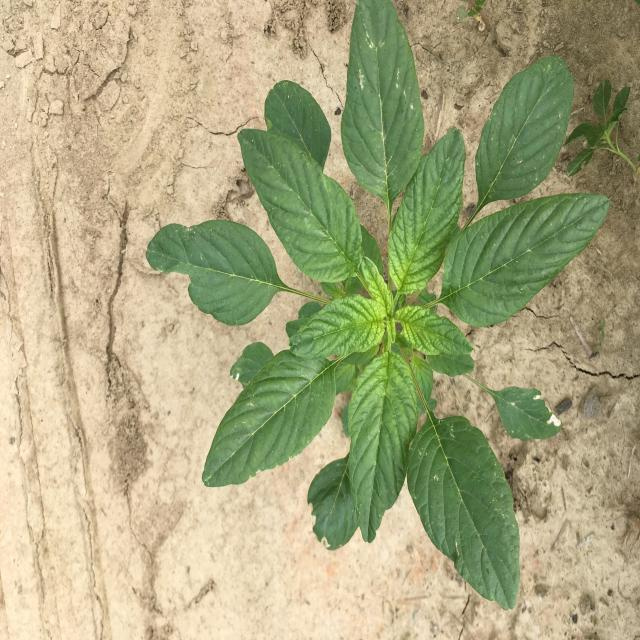PalmerAmaranth: (145, 24, 612, 612), (564, 79, 632, 178)
